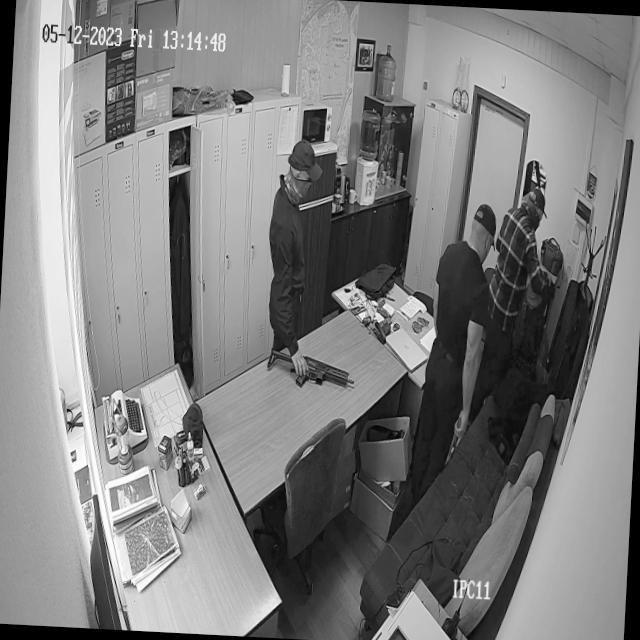gun: (267, 343, 357, 392), (450, 412, 466, 459)
person: (492, 188, 552, 353)
person with a gun: (421, 200, 494, 472), (263, 146, 325, 362)
